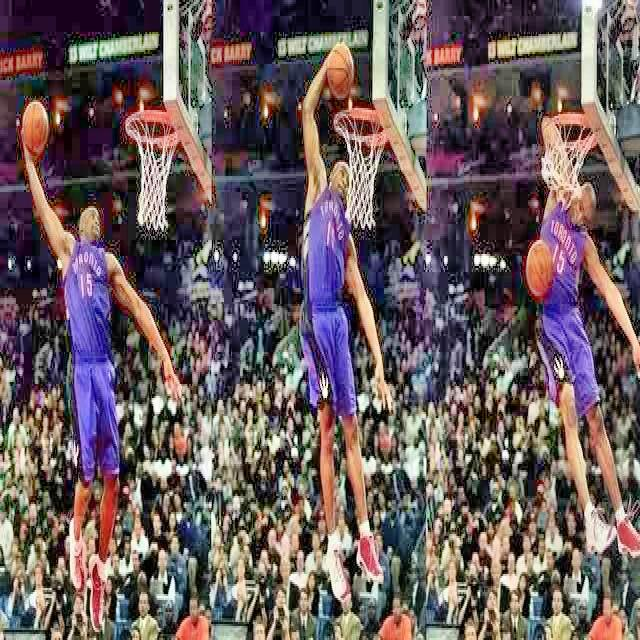board: (326, 45, 354, 101), (22, 100, 50, 154), (526, 242, 552, 298)
rim: (334, 109, 388, 231), (126, 109, 174, 231)
